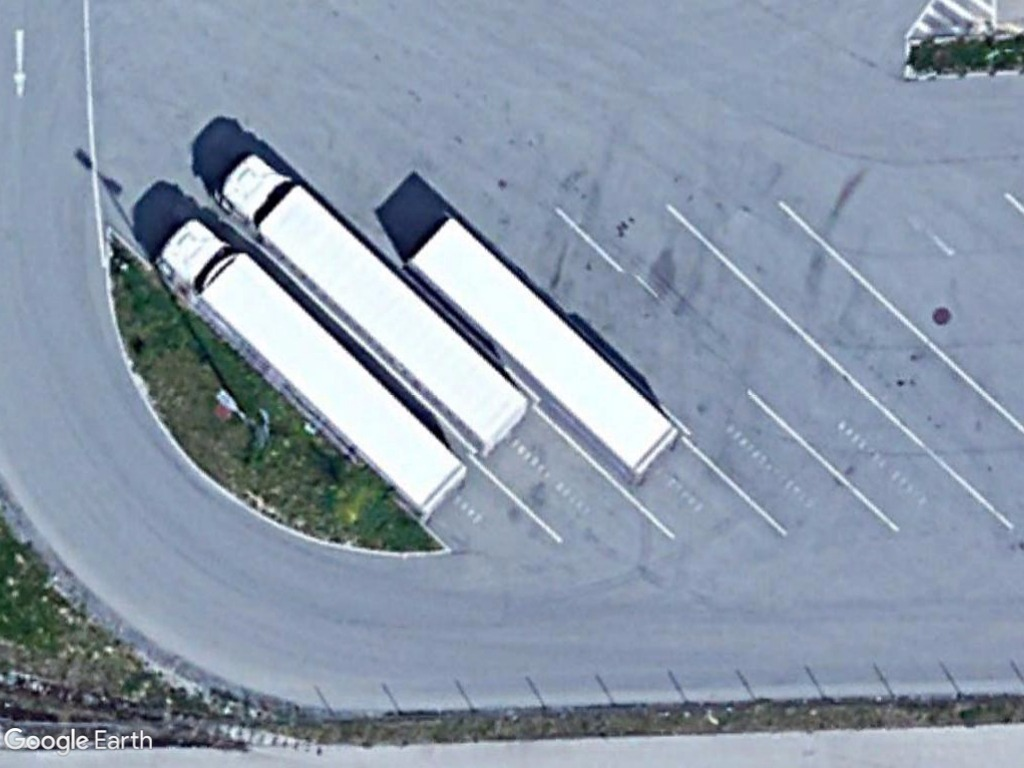longvehicle: (212, 149, 536, 471), (151, 213, 472, 526)
